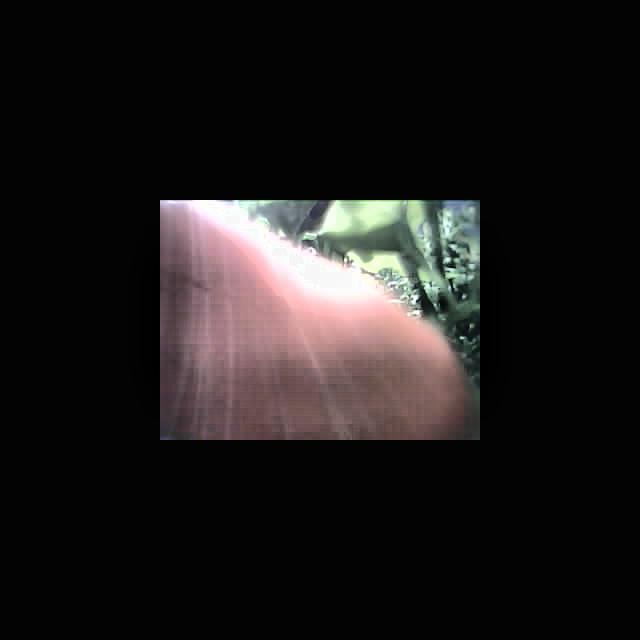Cabai: (177, 222, 340, 440)
